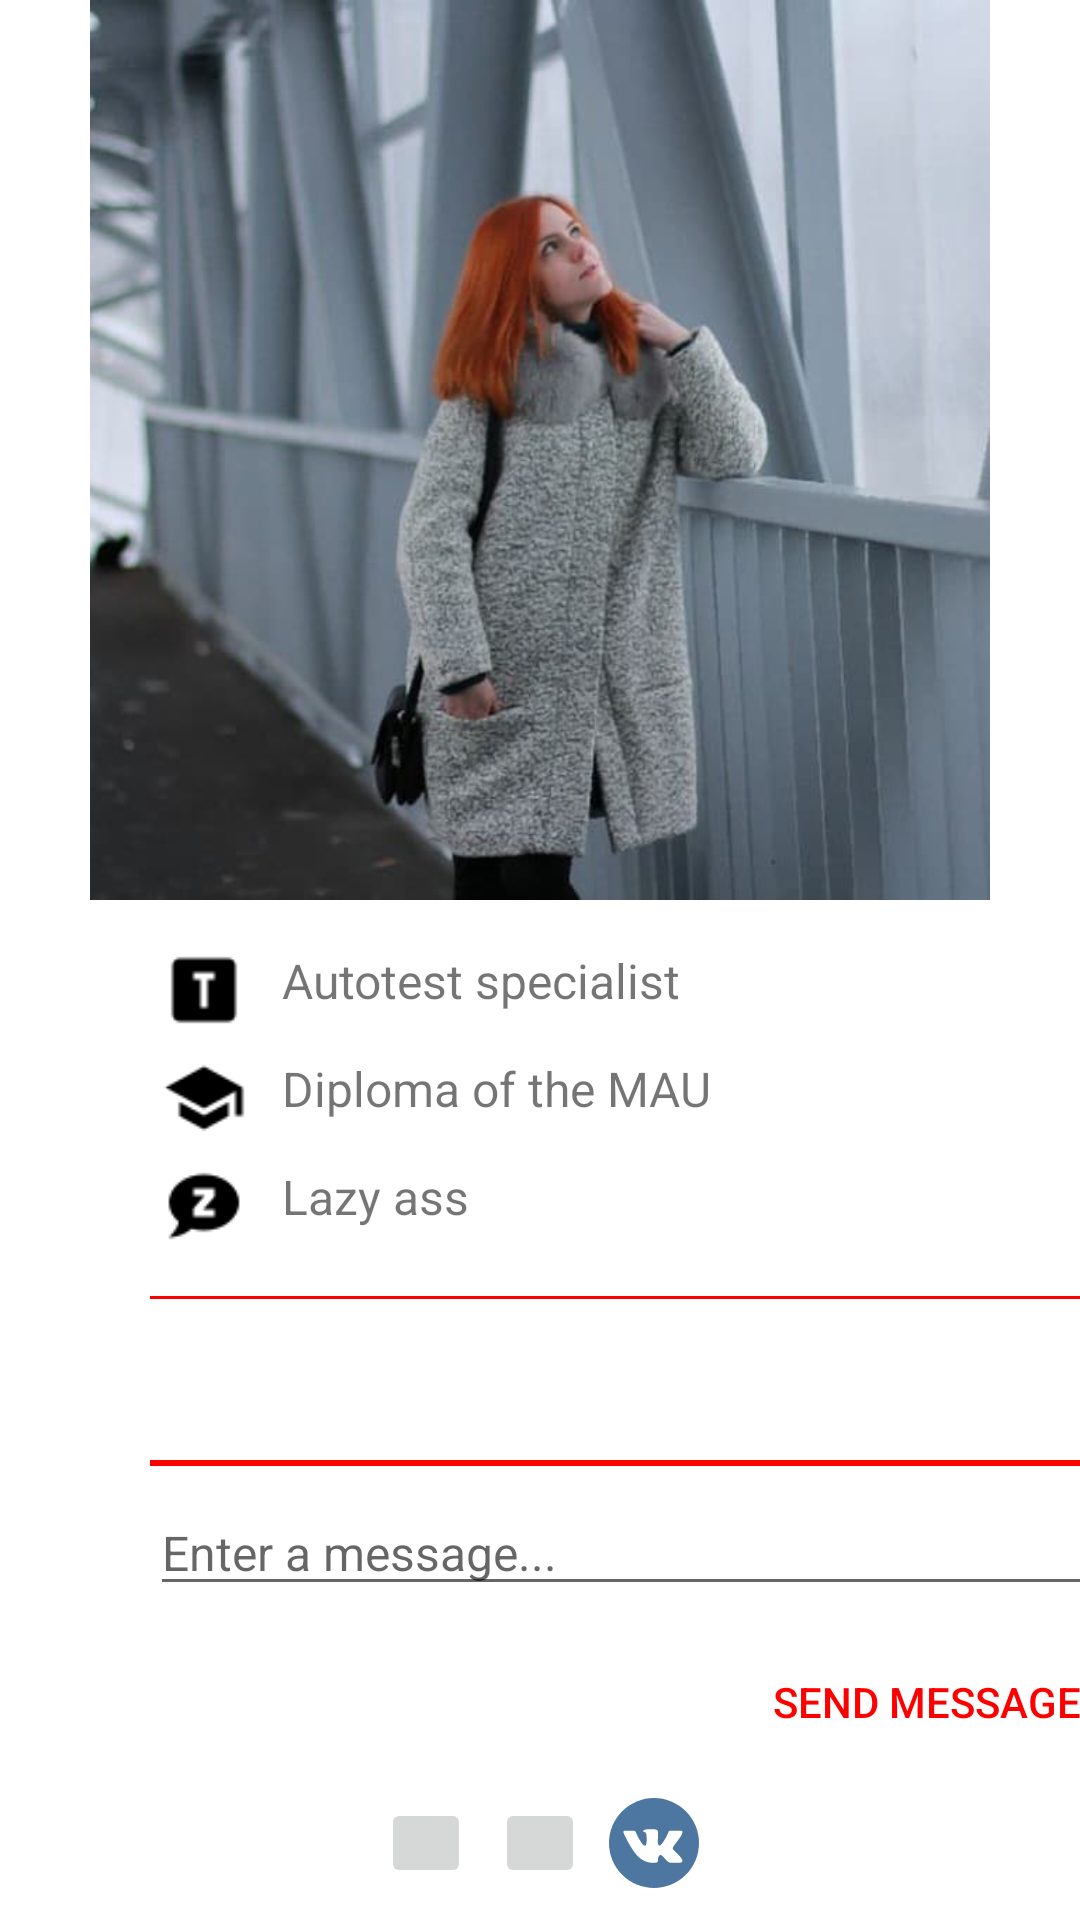

Locate icon controls on the screen. Image size 1080×1920, boxes as rect(x1, y1, x2, y2).
school: rect(165, 1065, 244, 1131)
sleep: rect(168, 1173, 240, 1239)
